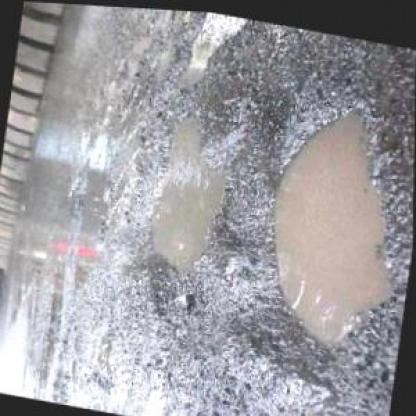pothole: (229, 81, 413, 386), (123, 97, 240, 297)
